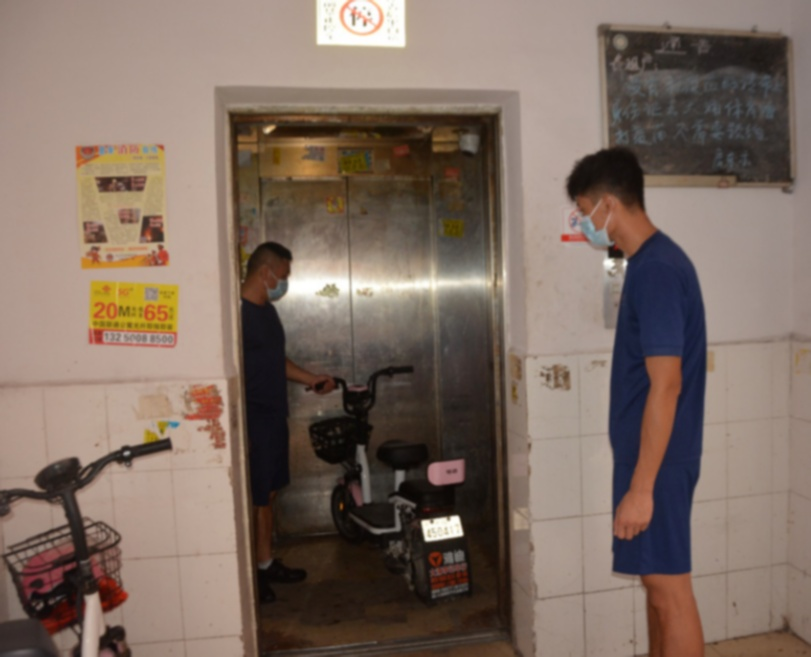ebike: (0, 436, 176, 657), (308, 366, 465, 598)
person: (561, 147, 707, 655), (248, 242, 295, 597)
